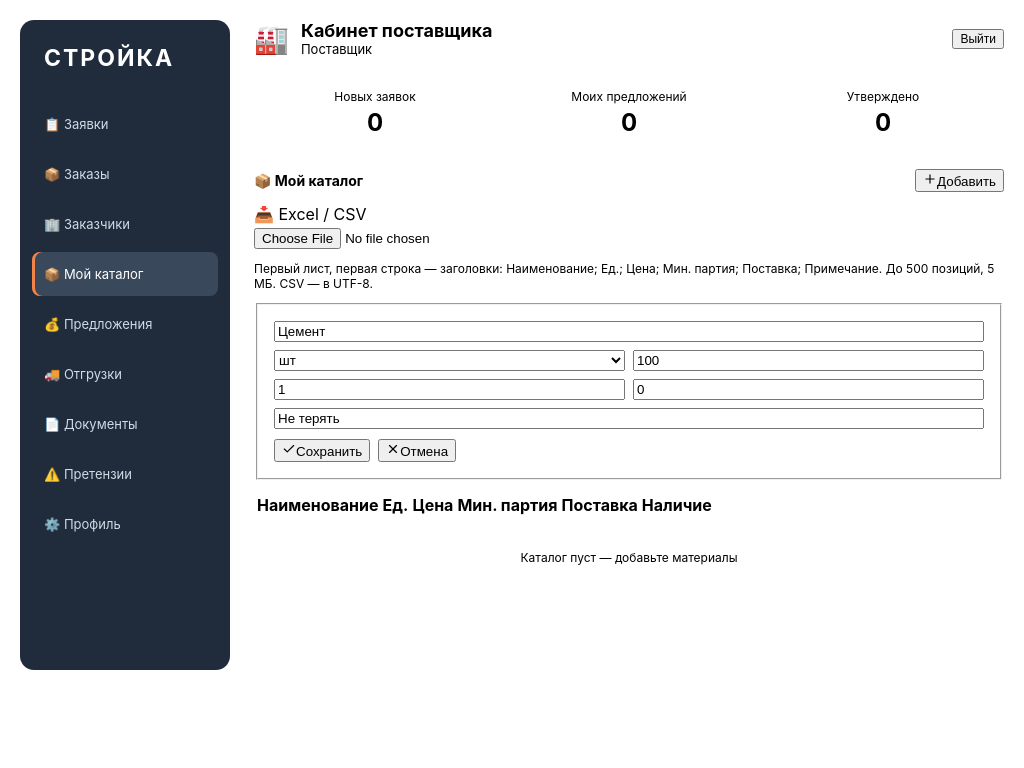
it: duplicate check preserves draft and sends no new POST
This screenshot has width=1024, height=768.
What coordinates should you click on to do the following:
click the button "Сохранить"
I would click on:
 (322, 450)
Its box is [274,439,370,462].
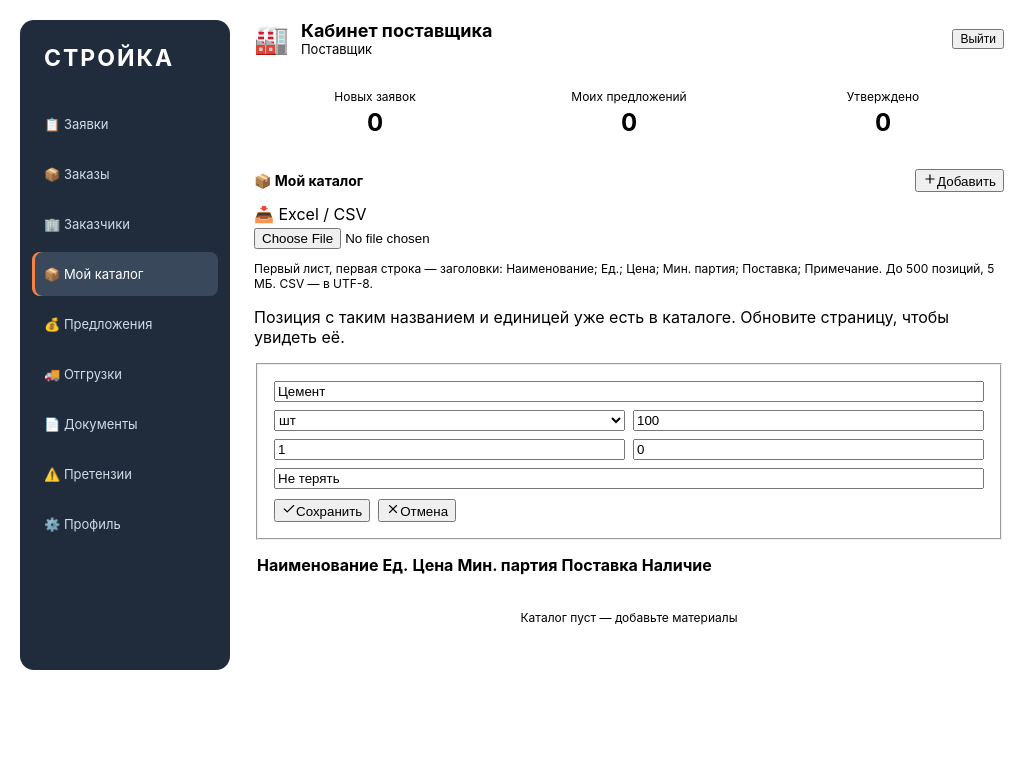
Expected: the 2nd field showing "Не терять" is shown, [274,468,984,489]
Expected: the message is shown, [254,307,1004,347]
